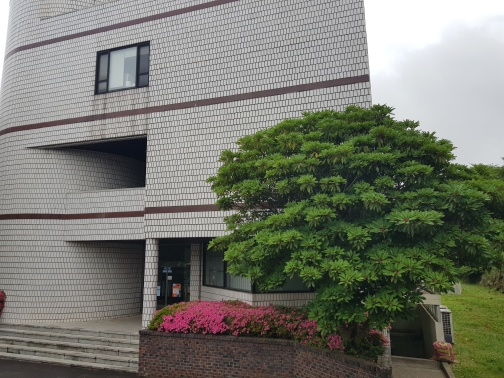Foreign Language Institute: (2, 1, 376, 366)
